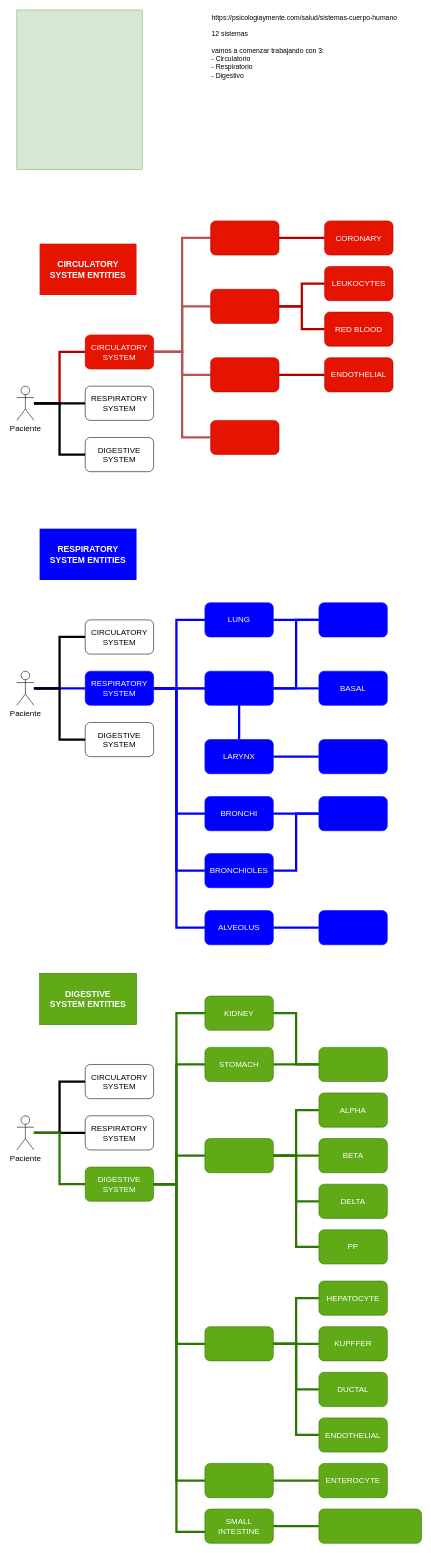
Image size: 431x1553. Some labels were removed from this diagram. The centre of each missing label's shape, as x and y in pixels:
ARTERY: the point at 244,306
BLOOD: the point at 244,437
ENTEROENDOCRINE: the point at 370,1526
EPITHELIAL: the point at 352,619
EXOCRINE: the point at 352,813
HEART: the point at 244,237
LARGE INTESTINE: the point at 238,1480
LIVER: the point at 238,1343
PANCREAS: the point at 238,1155
PARIETAL: the point at 352,1064
PNEUMOCYTE: the point at 352,927
SISTEMA - Nombre - Paciente - Tipo - Indicadores: the point at 79,89
SQUAMOUS: the point at 352,756
VEIN: the point at 244,374
WINDPIPE: the point at 238,688
